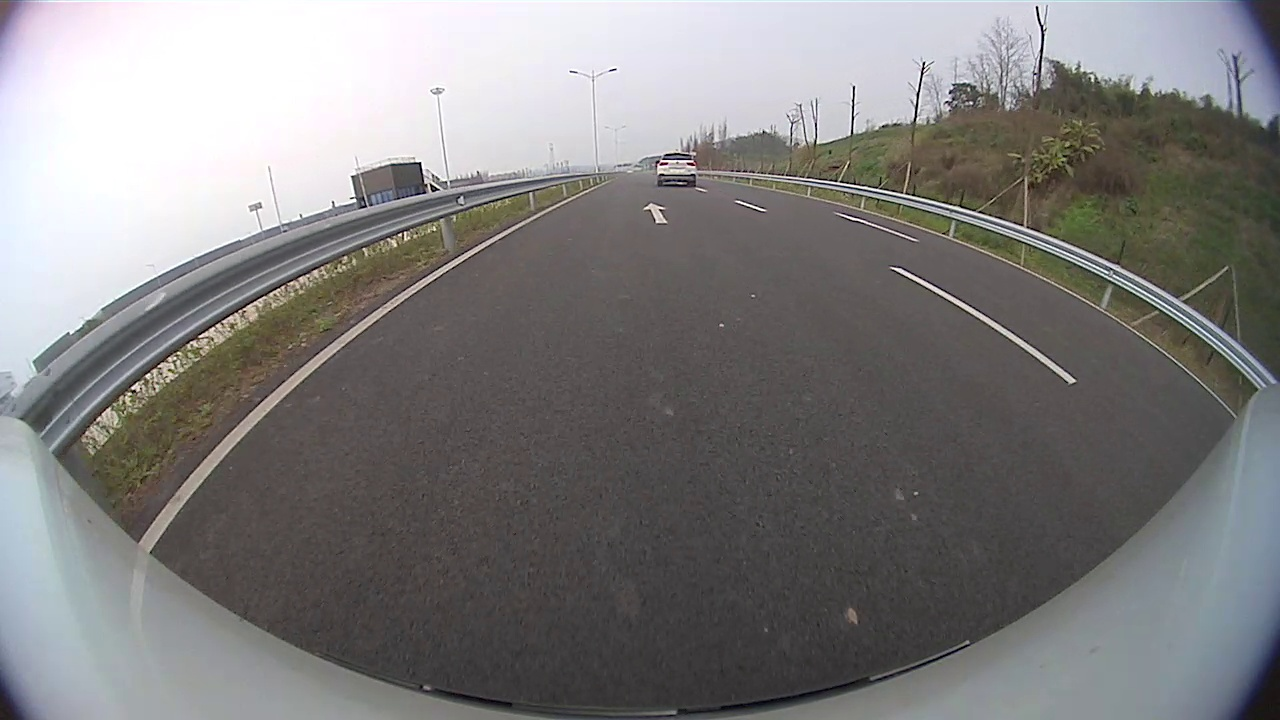car: (655, 152, 697, 186)
